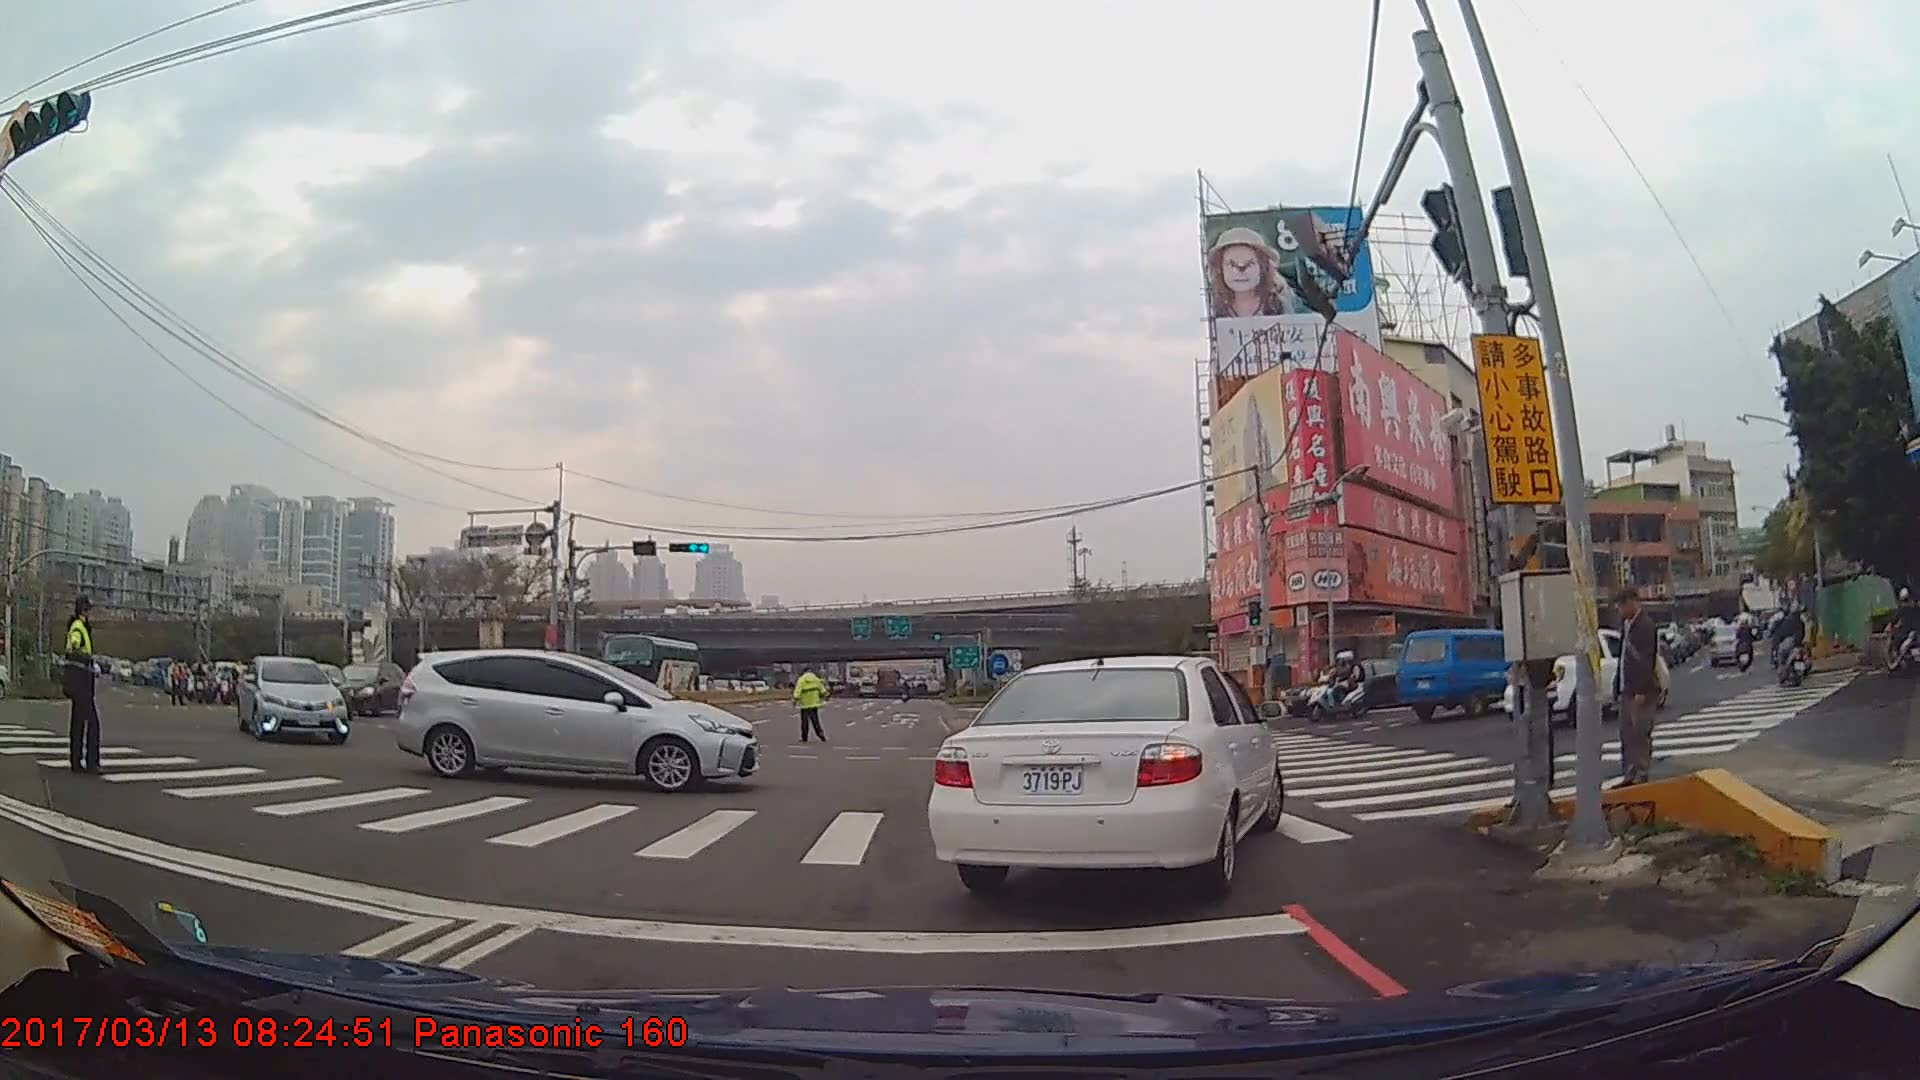pedestrian: (1598, 572, 1674, 805), (55, 593, 104, 782), (790, 661, 835, 745)
rider: (1303, 652, 1368, 727), (1881, 584, 1920, 679), (1774, 604, 1809, 688), (1792, 606, 1820, 682), (1735, 614, 1756, 678)
vehicle: (926, 654, 1283, 897), (395, 647, 759, 794), (1495, 629, 1666, 725), (1398, 627, 1552, 721), (235, 654, 350, 744), (597, 633, 701, 700), (331, 657, 406, 720), (1705, 622, 1750, 668)
